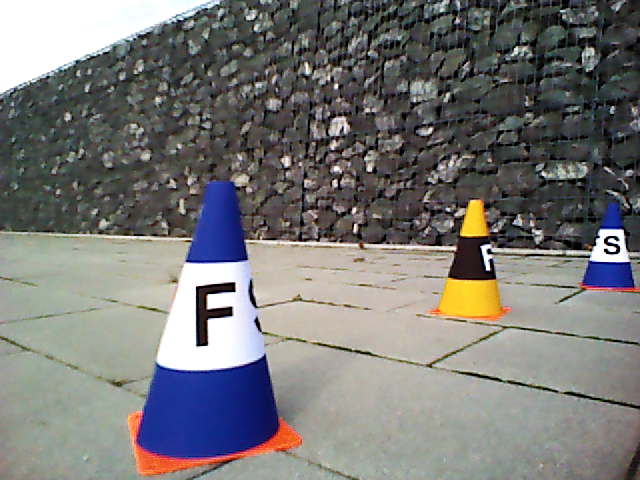bluecone: (136, 181, 281, 458), (582, 202, 634, 288)
yellowcone: (440, 199, 502, 316)
